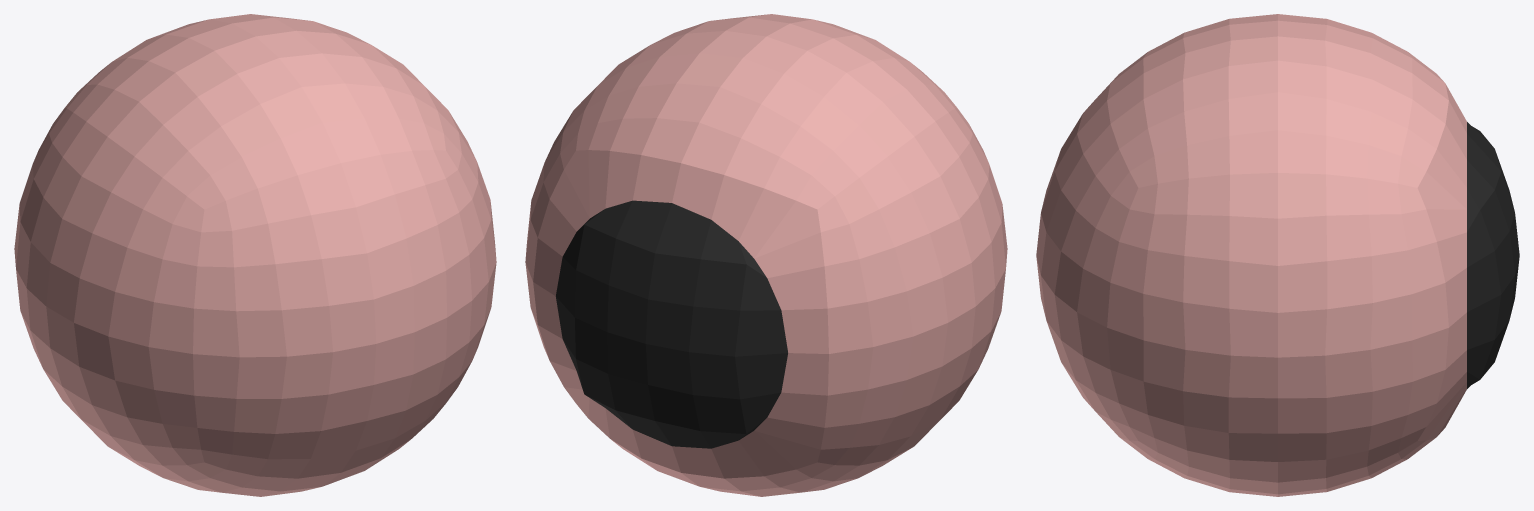
Rendered from eye.fbx.
3 renders of one model, left to right at view 1: azimuth 30°, elevation 25°; view 2: azimuth 150°, elevation 25°; view 3: azimuth 270°, elevation 25°, orthographic.
Visible parts, largest first — view 1: Cube; view 2: Cube; view 3: Cube.
Part boxes in pixels (x1,y1,x2,y2): Cube: (14,14,496,496); Cube: (525,14,1007,496); Cube: (1036,14,1519,496).
Bounding box in the file's own units: 200 × 200 × 200.
